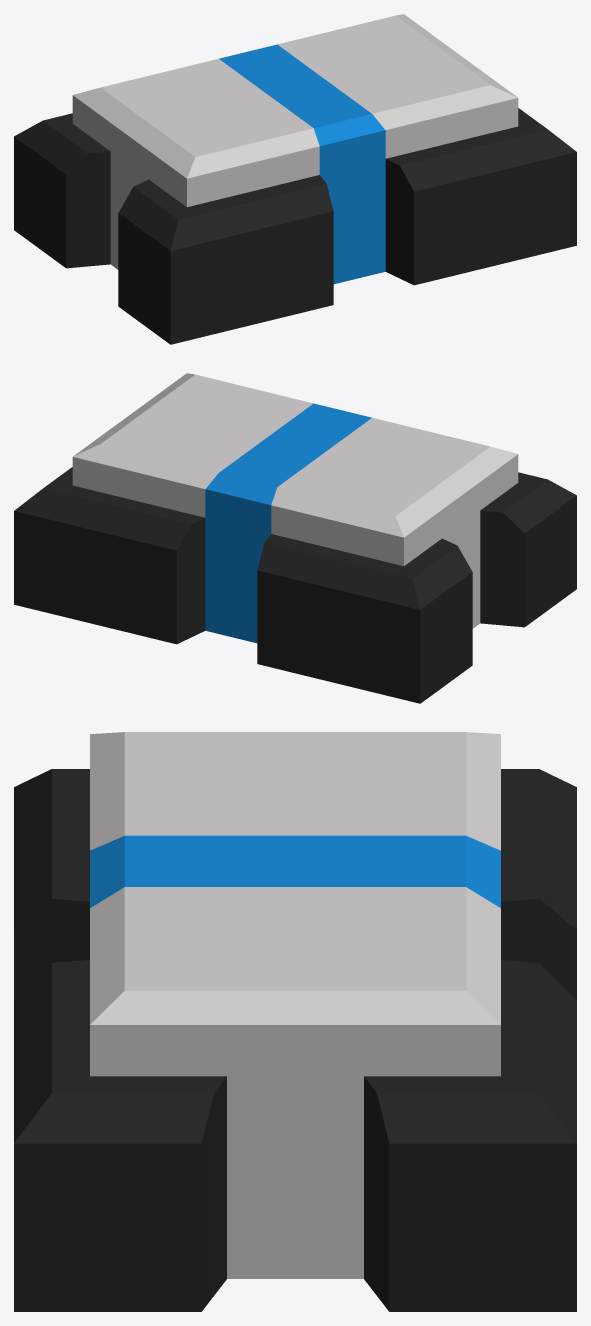
Rendered from BatteryNL.fbx.
The picture shows the model from 3 angles, top to bottom: view 1: azimuth 30°, elevation 25°; view 2: azimuth 150°, elevation 25°; view 3: azimuth 270°, elevation 25°; orthographic projection. The views are drawn at different scales.
Visible parts, largest first — view 1: Battery2; view 2: Battery2; view 3: Battery2.
Boxes of the visible parts, box(x1,y1,x2,y2) form: Battery2: box(14, 14, 576, 344); Battery2: box(14, 373, 576, 703); Battery2: box(14, 732, 576, 1311).
Size of the model in its own units: 3.34 by 1.19 by 2.23.
